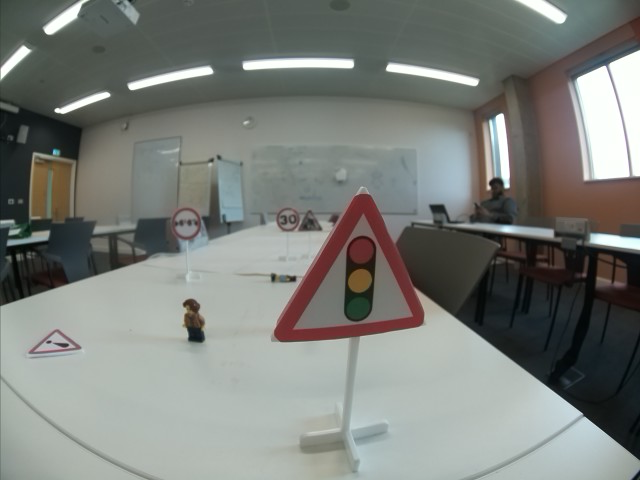30mph: (277, 206, 301, 231)
6ft6: (170, 207, 202, 239)
Lego Man: (178, 297, 210, 344), (268, 270, 297, 285)
Roadworks: (299, 210, 322, 231)
Traffic lights: (276, 191, 429, 342)
Warning: (26, 326, 86, 356)
